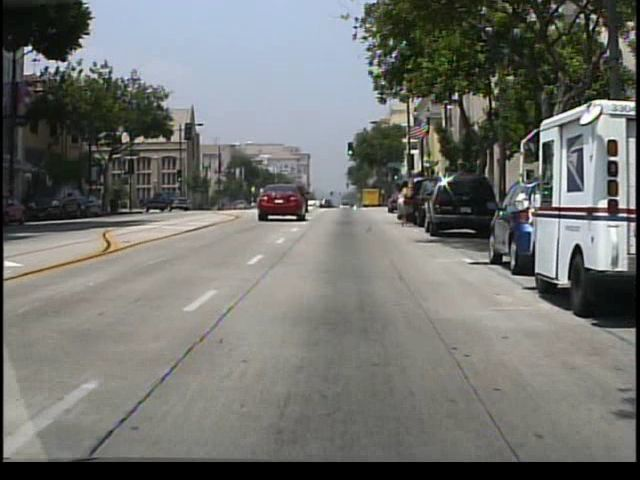person: (392, 179, 414, 225)
